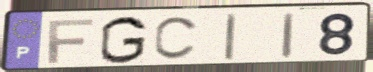8: (316, 11, 358, 58)
C: (152, 15, 202, 62)
F: (46, 17, 96, 65)
G: (98, 14, 149, 65)
I: (222, 12, 239, 63), (280, 11, 297, 60)
